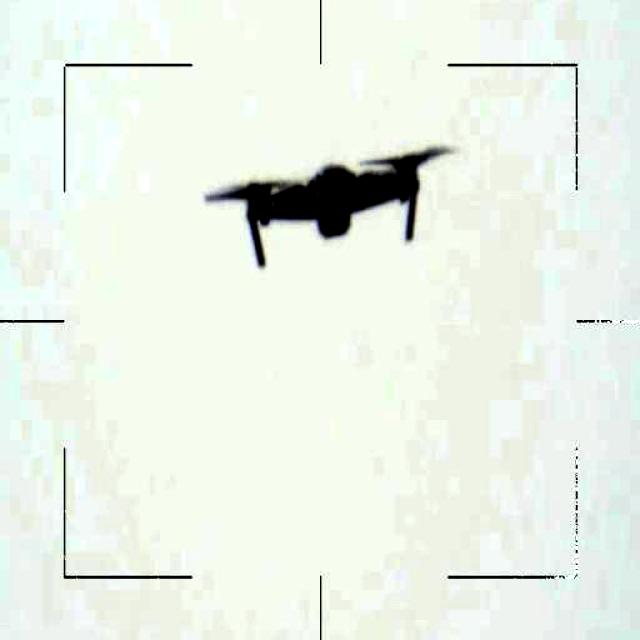bird: (205, 139, 456, 268)
